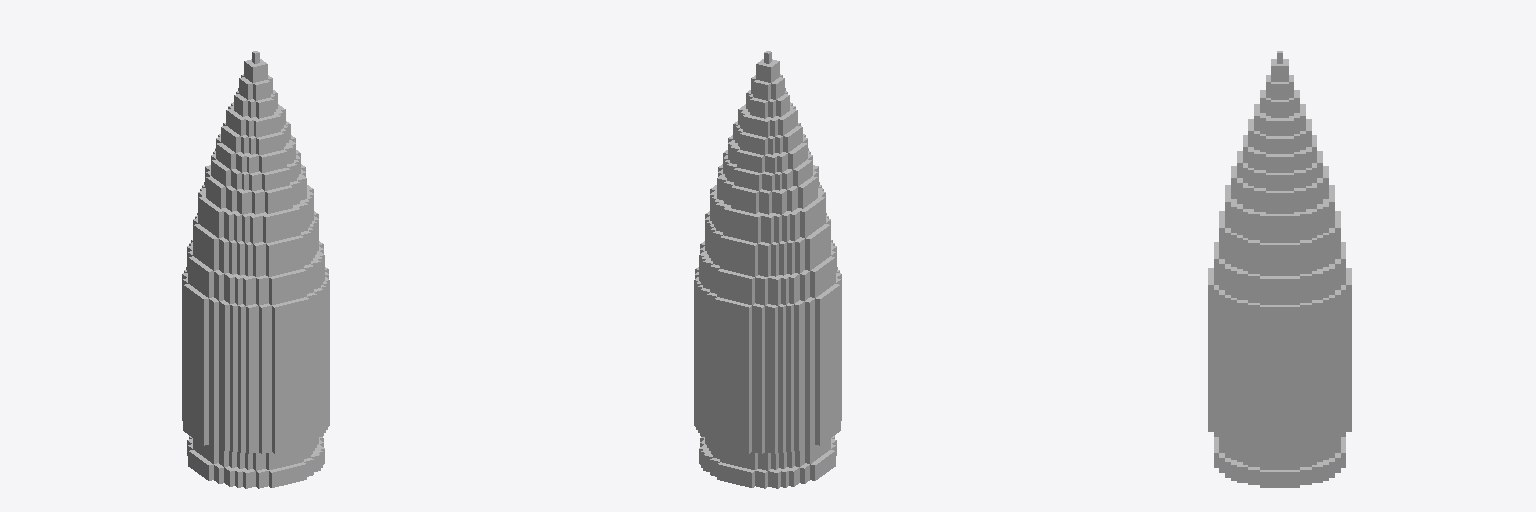
Rendered from Assault Rifle Ammo.obj.
The picture shows the model from 3 angles: view 1: azimuth 30°, elevation 25°; view 2: azimuth 150°, elevation 25°; view 3: azimuth 270°, elevation 25°; orthographic projection.
Size of the model in its own units: 25 by 78 by 25.